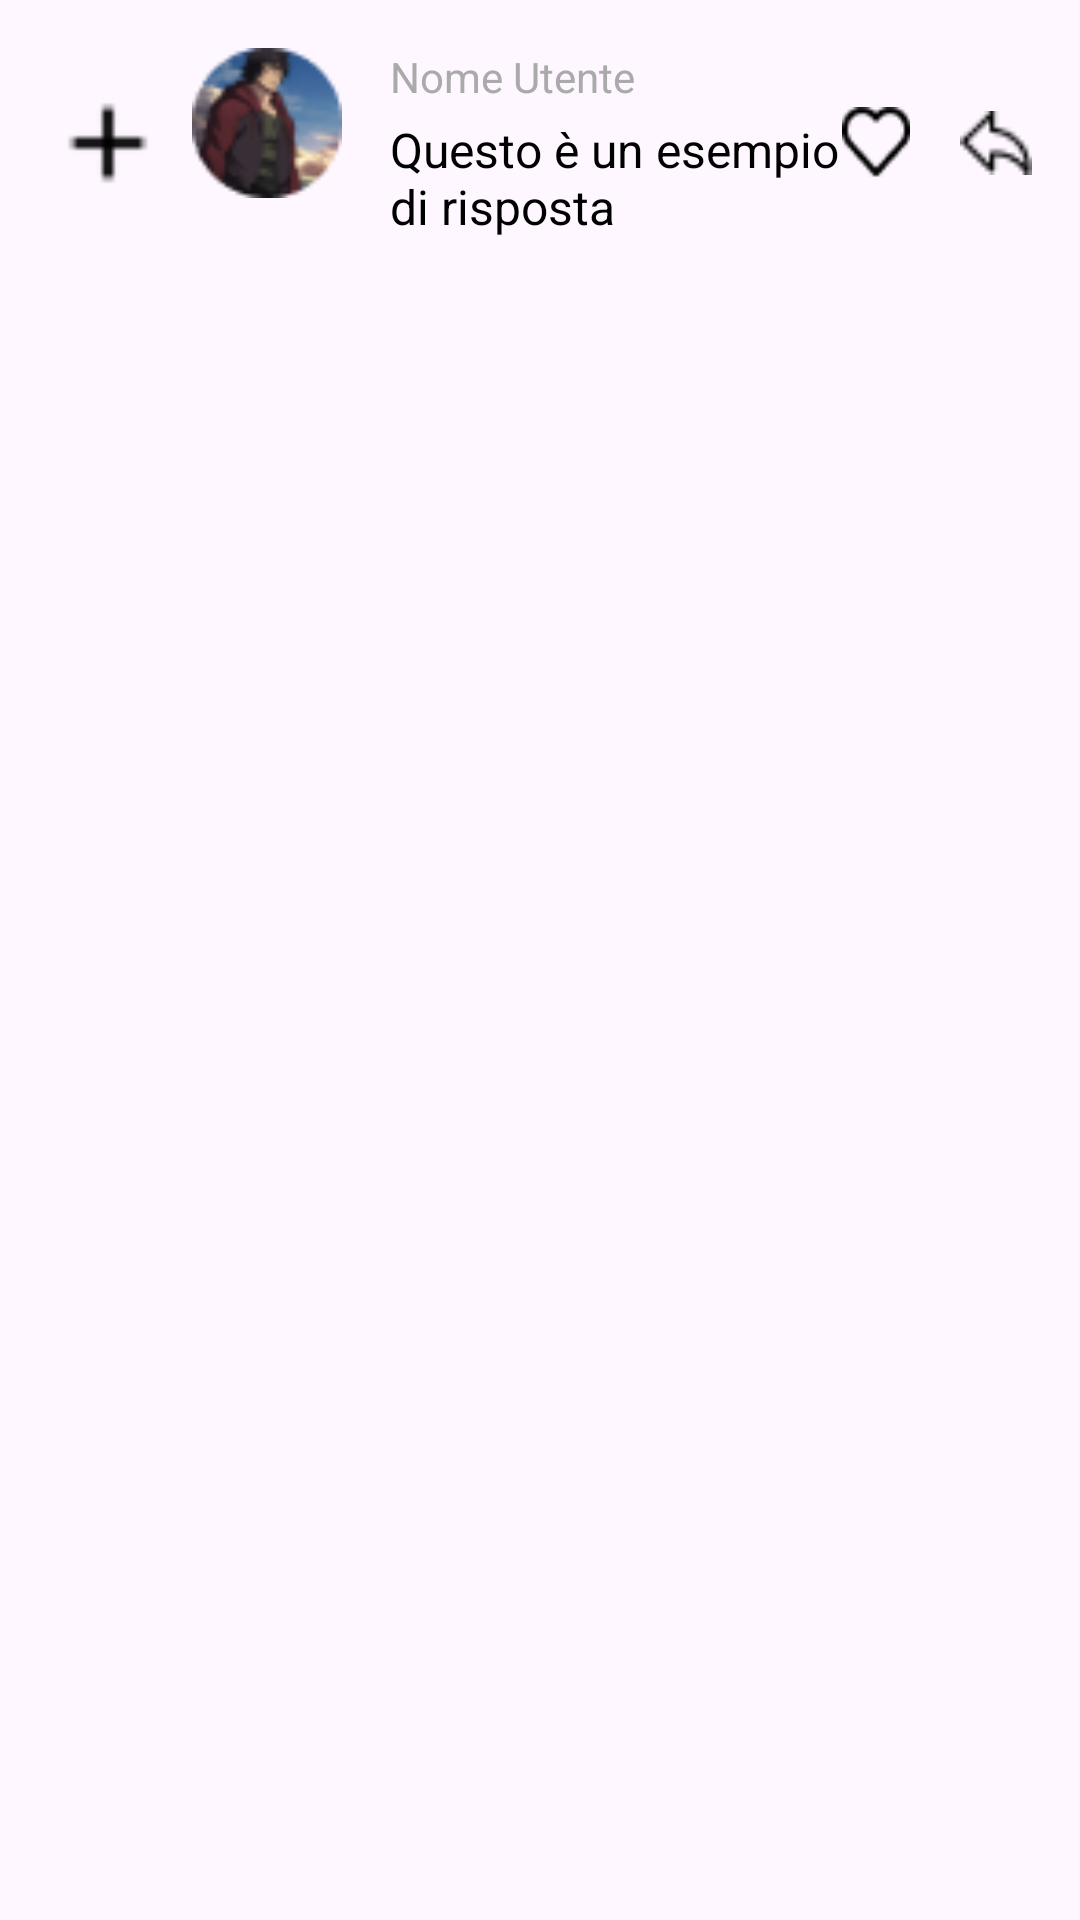

Icon bounding boxes for this 1080px x 1920px phone screenshot, format (x1, y1, x2, y2):
like: (842, 107, 910, 177)
plus: (69, 104, 147, 182)
reply: (960, 111, 1032, 175)
